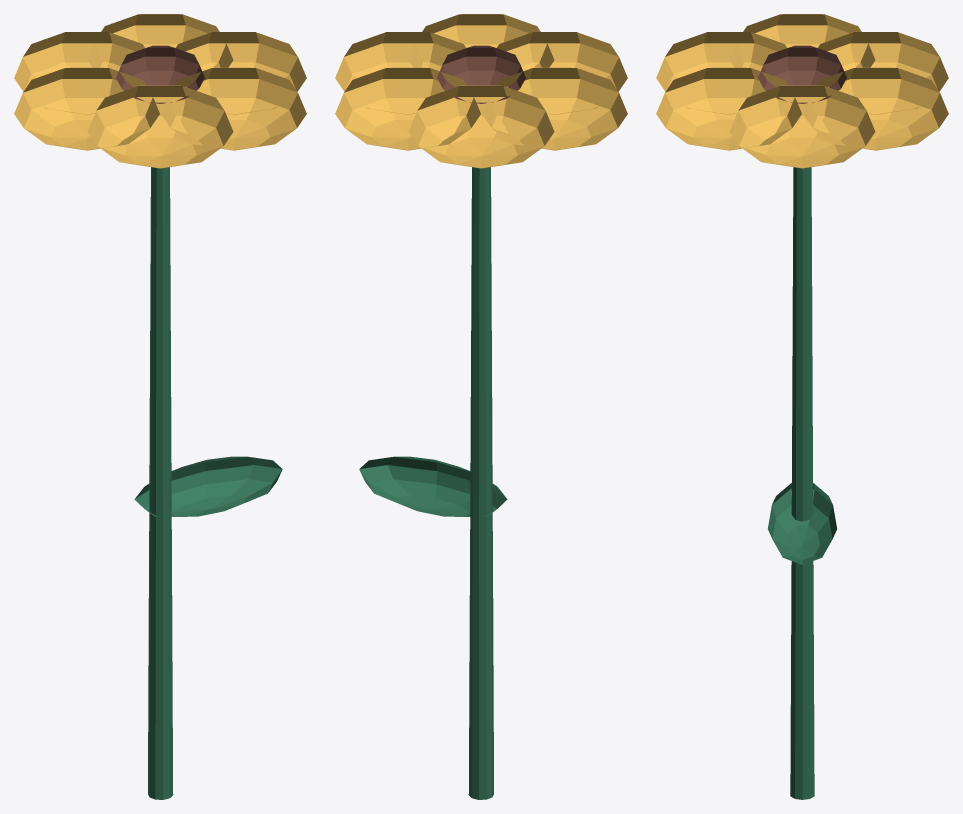
The model's file is turning-seasons-sunflower-f068901f__2119.glb.
The picture shows the model from 3 angles, left to right: view 1: azimuth 30°, elevation 25°; view 2: azimuth 150°, elevation 25°; view 3: azimuth 270°, elevation 25°; orthographic projection.
Parts seen in each view (by area): view 1: sunflower; view 2: sunflower; view 3: sunflower.
Boxes of the visible parts, x1,y1,x2,y2 form: sunflower: [14, 14, 306, 799]; sunflower: [335, 14, 627, 799]; sunflower: [656, 14, 948, 799].
Size of the model in its own units: 0.4437 by 1.16 by 0.4146.
